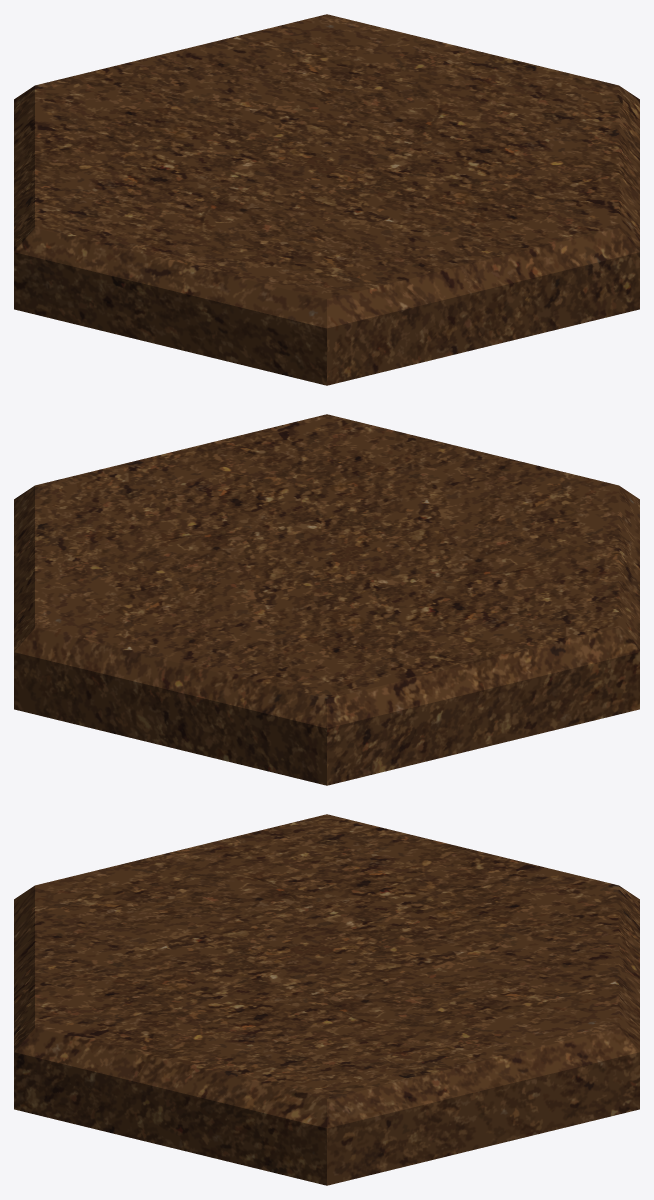
The model's file is tileBasic.fbx.
3 views of the same model, one above another, from view 1: azimuth 30°, elevation 25°; view 2: azimuth 150°, elevation 25°; view 3: azimuth 270°, elevation 25° (orthographic).
Parts seen in each view (by area): view 1: pCube8; view 2: pCube8; view 3: pCube8.
Part boxes in pixels (box(x1,y1,x2,y2)): pCube8: box(14, 14, 639, 385); pCube8: box(14, 414, 639, 785); pCube8: box(14, 814, 639, 1185).
Size of the model in its own units: 115 by 13.46 by 100.
